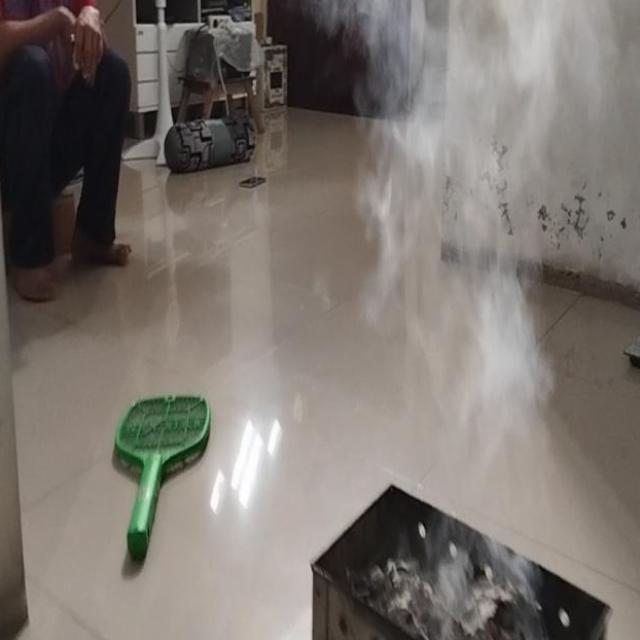fire: (357, 0, 553, 483)
